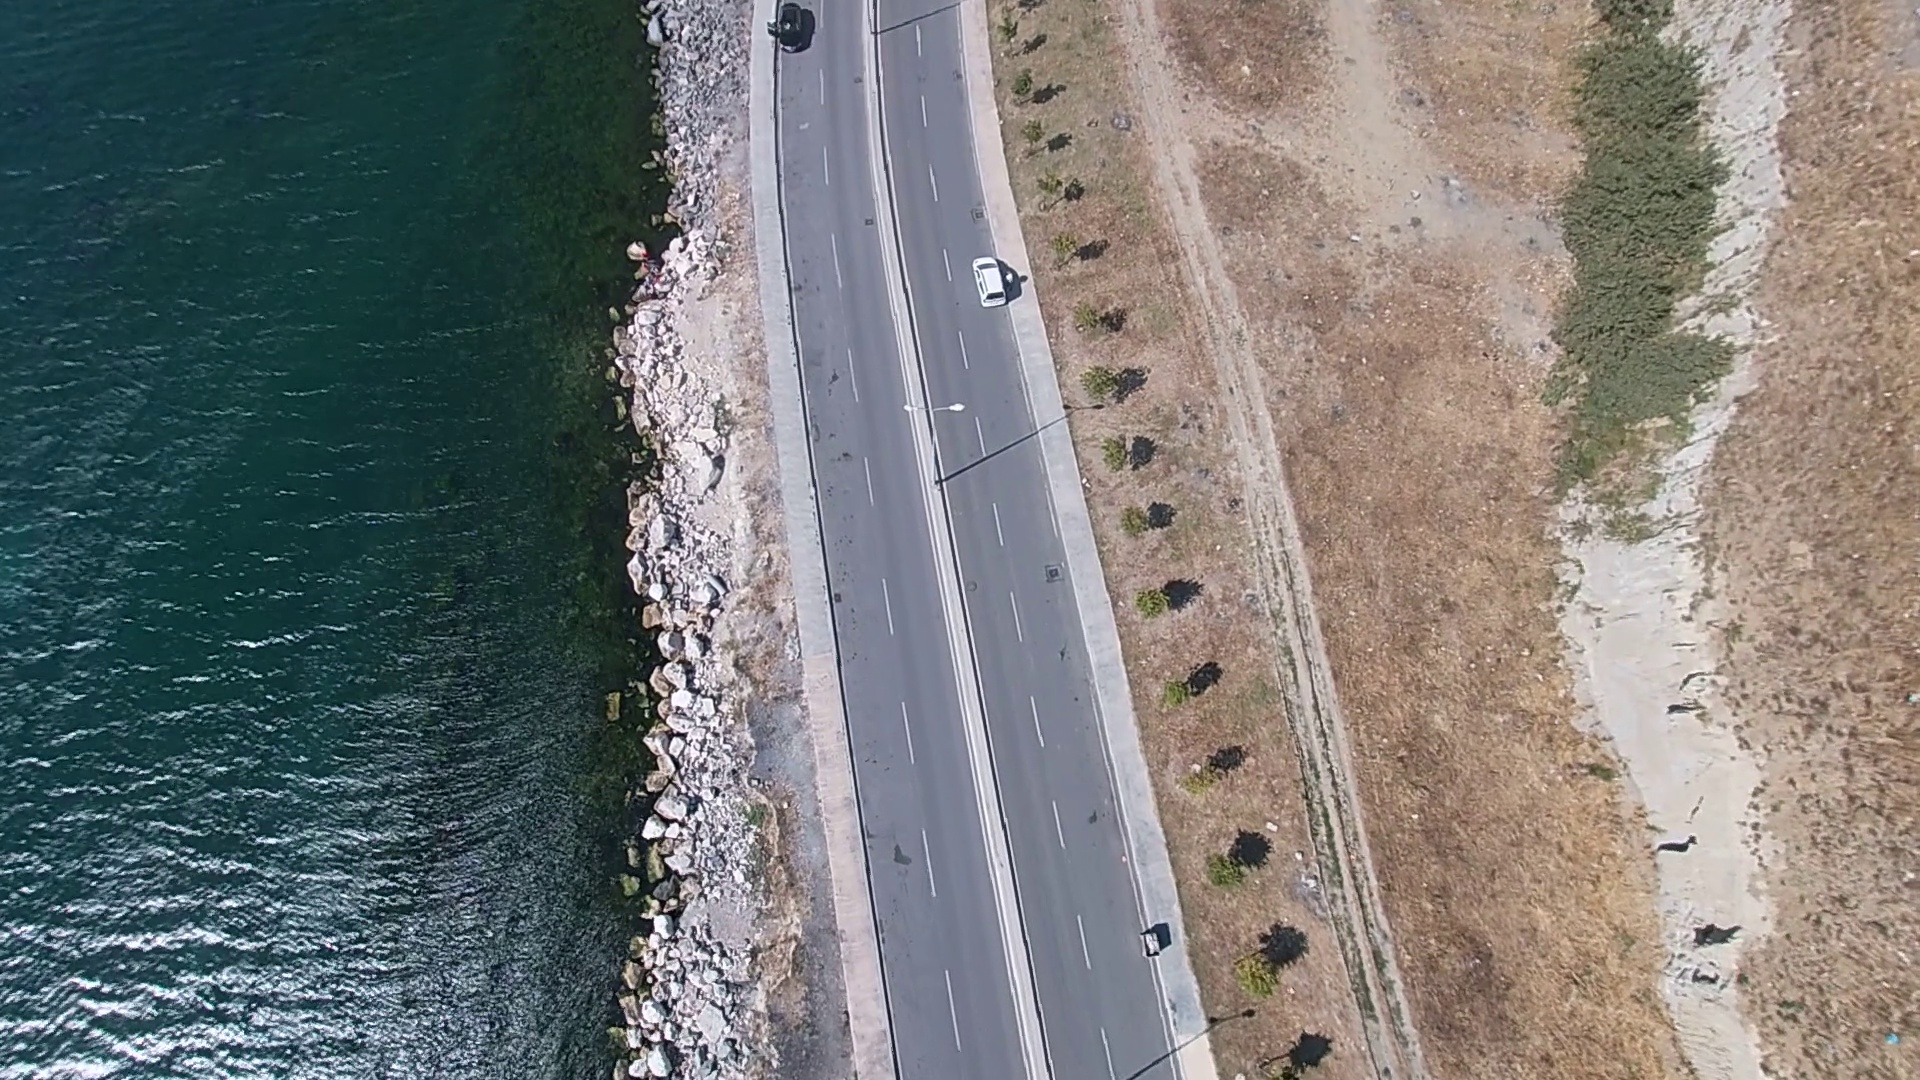arac: (965, 248, 1015, 307), (779, 1, 814, 51)
